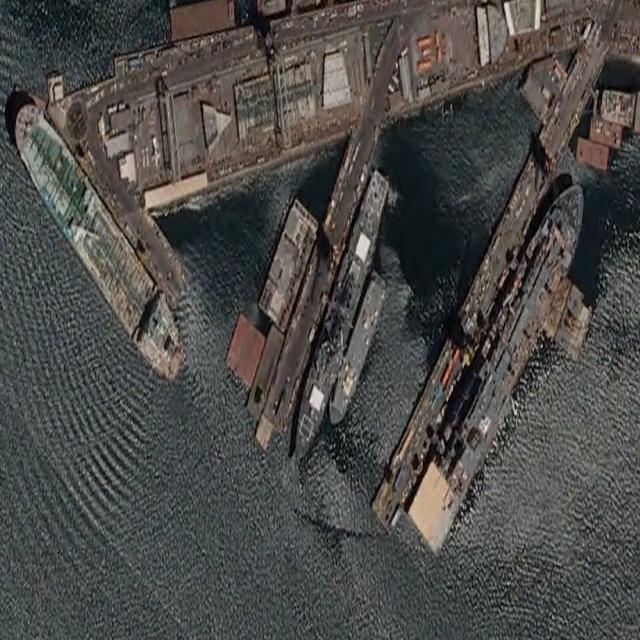Cargo: (3, 85, 192, 398)
Destroyer: (285, 164, 392, 473)
Other Ship: (404, 160, 597, 560), (326, 270, 388, 435)
